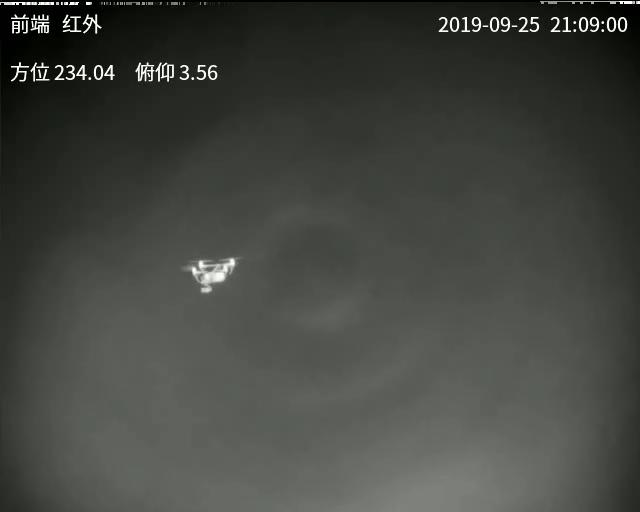uav: (184, 256, 238, 294)
